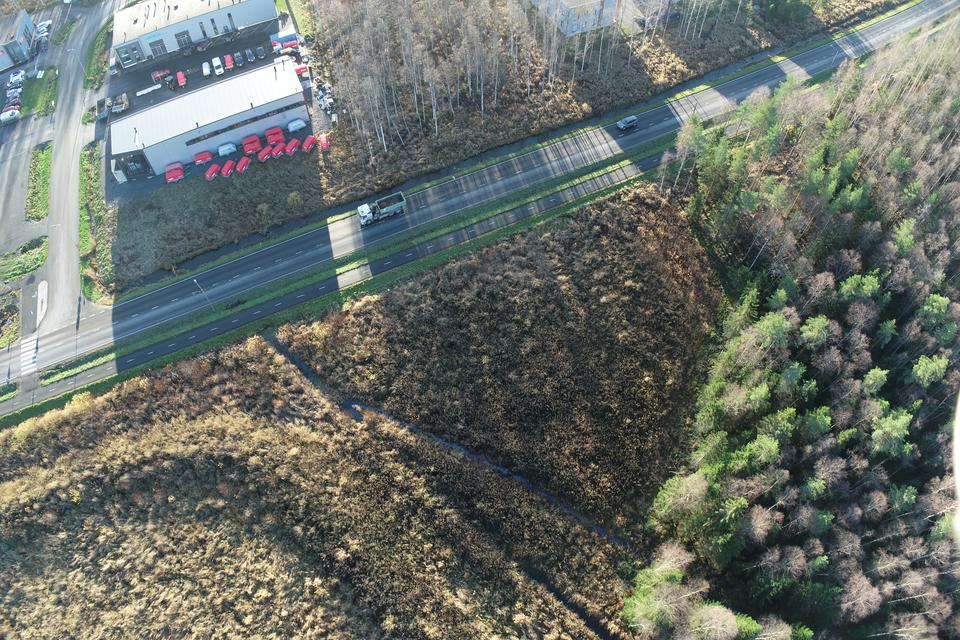intersection: (1, 264, 115, 427)
